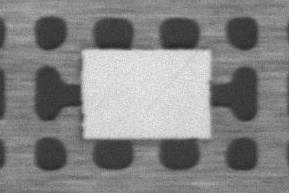DIE_CRACK: (219, 35, 289, 74)
